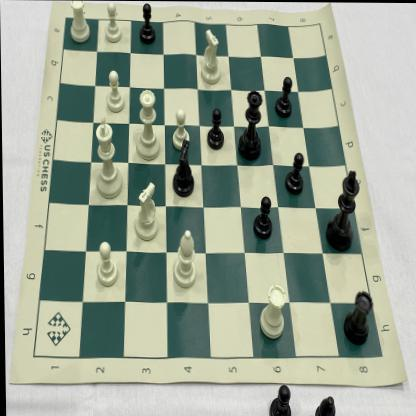black-king: (321, 169, 362, 254)
black-knight: (166, 139, 196, 198)
black-pawn: (249, 192, 273, 242), (283, 150, 306, 197), (273, 73, 294, 119), (205, 106, 225, 154), (137, 1, 157, 49)
black-queen: (236, 86, 264, 163)
black-rook: (341, 287, 374, 346)
white-bishop: (169, 226, 198, 292)
white-king: (91, 114, 125, 200)
white-knight: (134, 178, 159, 243), (198, 24, 222, 86)
white-pawn: (93, 237, 120, 288), (103, 68, 126, 113), (168, 107, 190, 152), (102, 1, 124, 43)
white-queen: (135, 86, 161, 162)
white-rook: (255, 278, 288, 343), (67, 0, 93, 46)
